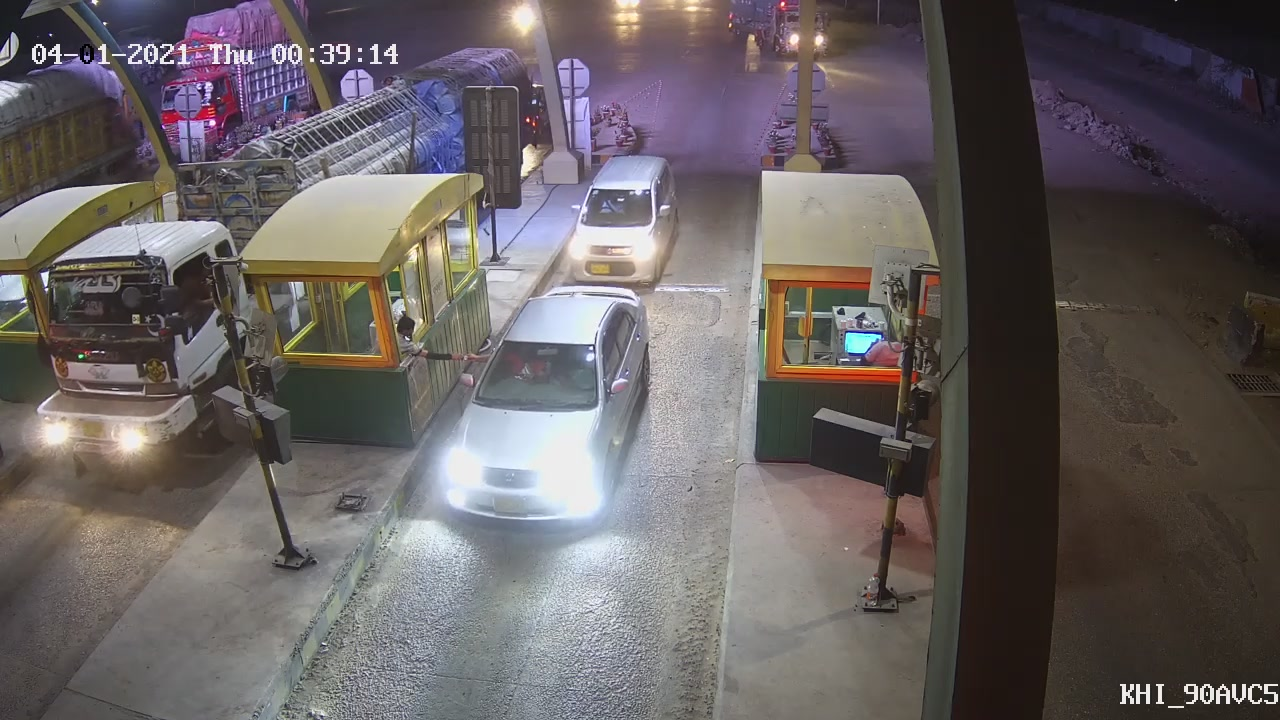F1: (435, 287, 656, 520), (558, 150, 689, 280)
